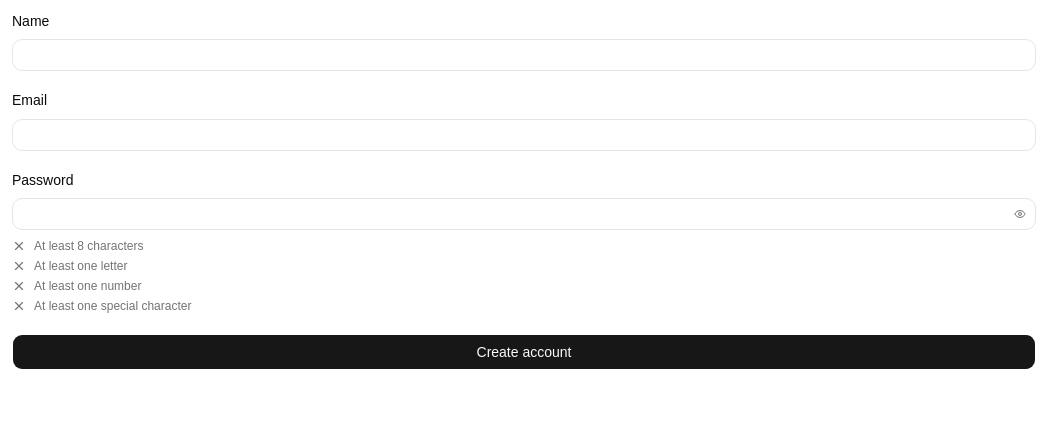
Scenario: SignUpForm › shows a generic message on a server error
Type "Jane Doe" into the field labelled "Name" at [524, 55], box [12,39,1036,71]
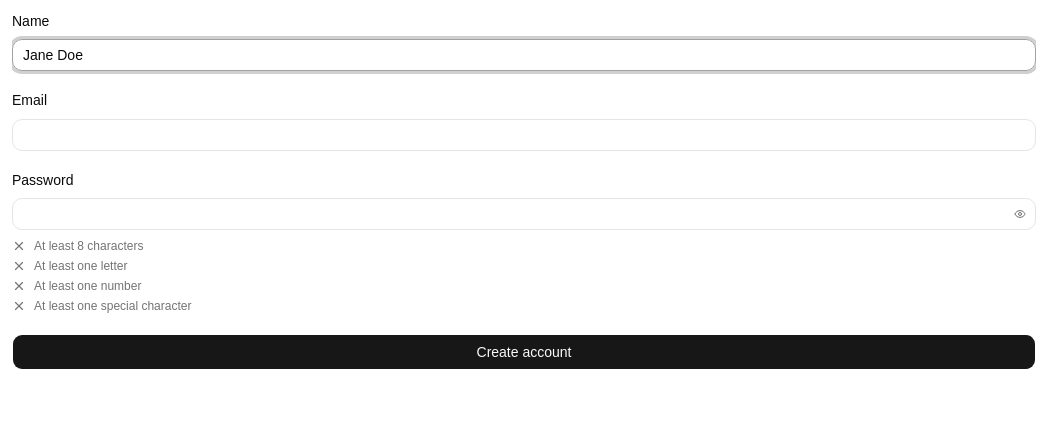
Type "Jane@Example.com" into the field labelled "Email" at [524, 134], box [12,118,1036,150]
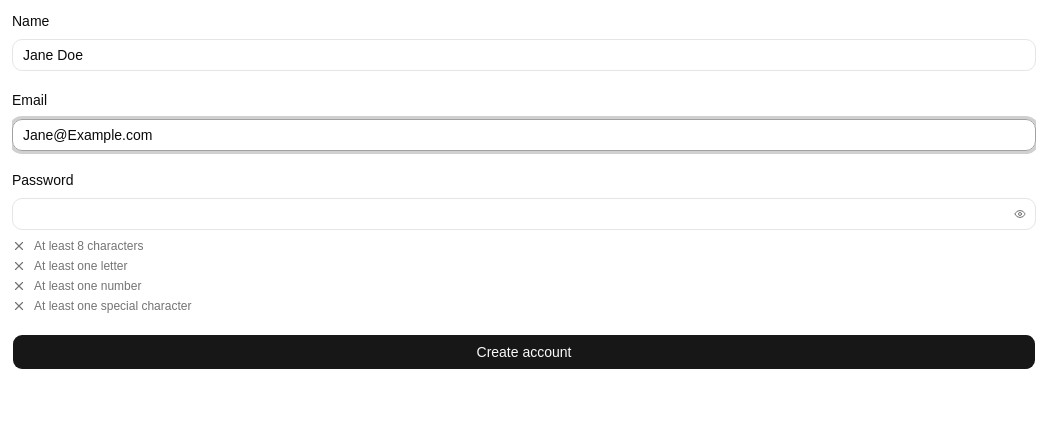
Type "Passw0rd!" into the password field labelled "Password" at [524, 214], box [12,198,1036,230]
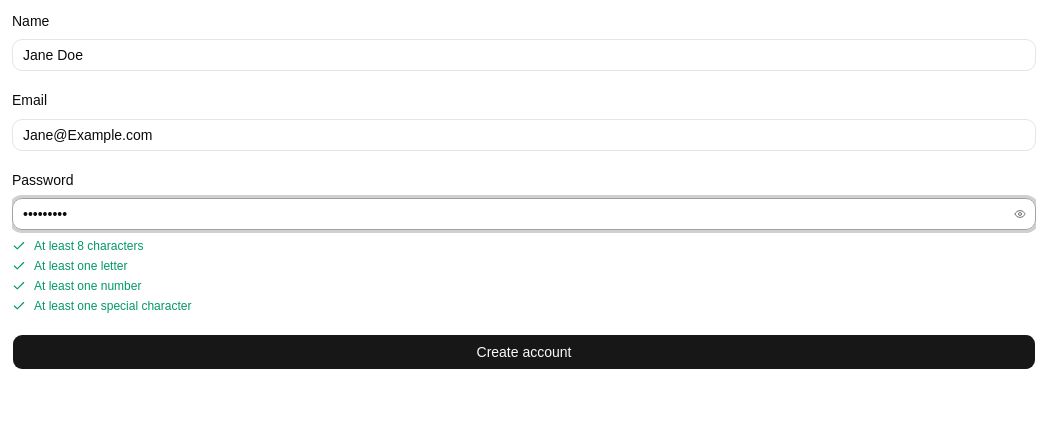
Click the button "Create account" at [524, 352], box [12,334,1036,370]
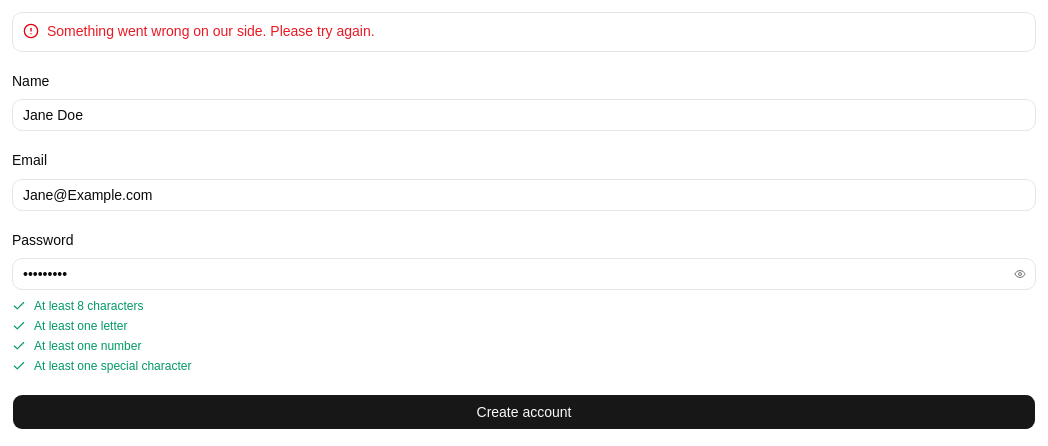
Now the text "Something went wrong on our side. Please try again." is shown, box [47,23,375,39]
